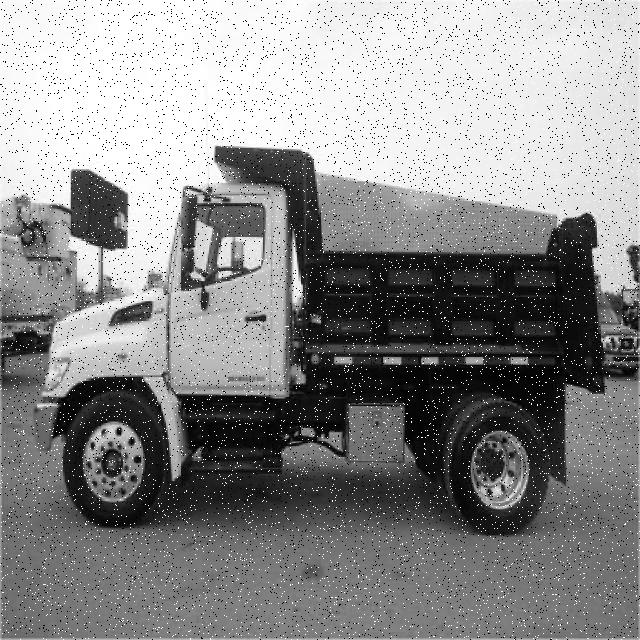Box Truck: (33, 146, 605, 539)
